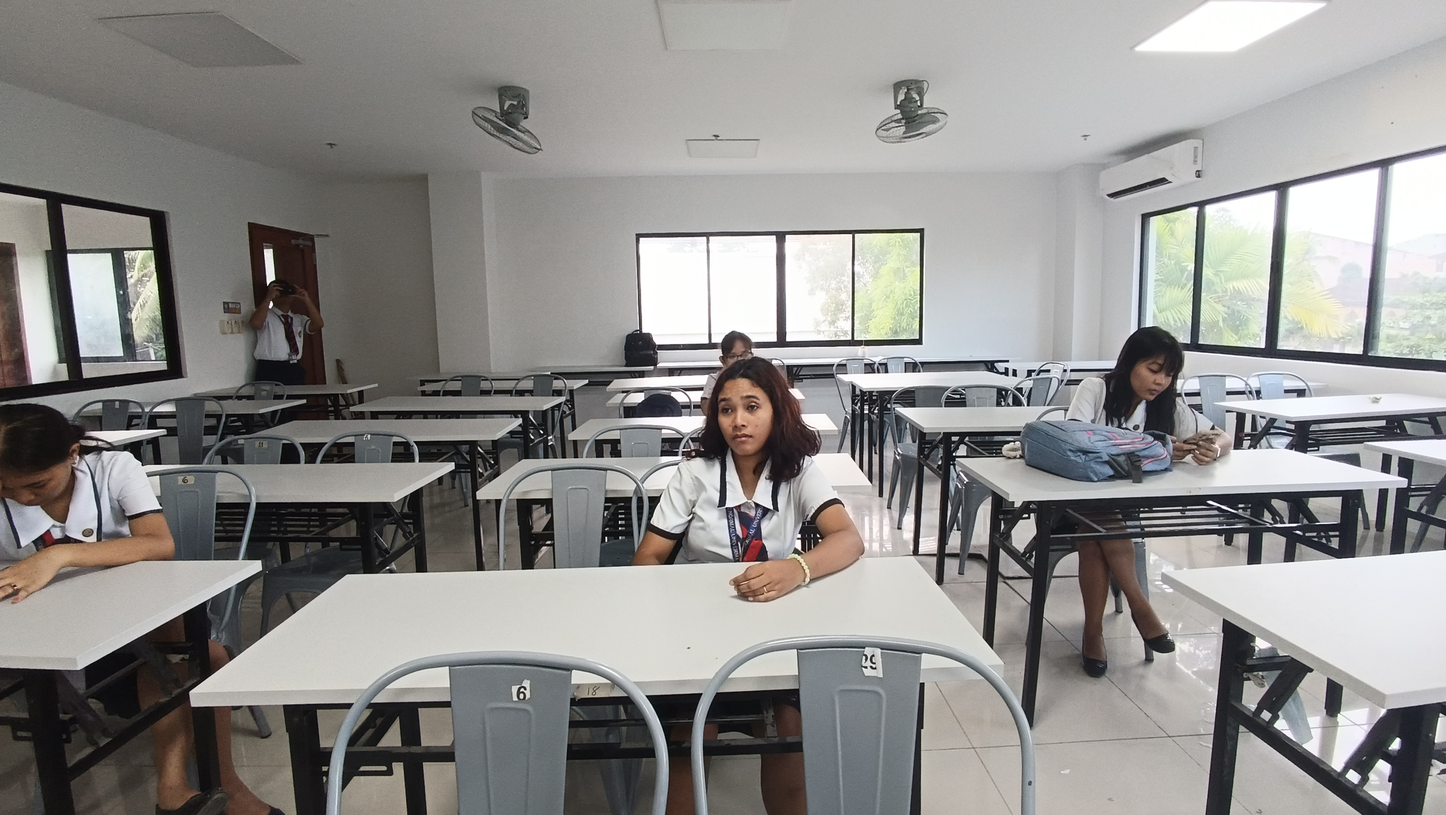with-student: (190, 354, 1007, 739), (948, 325, 1408, 557), (1, 392, 265, 745), (561, 327, 838, 452)
